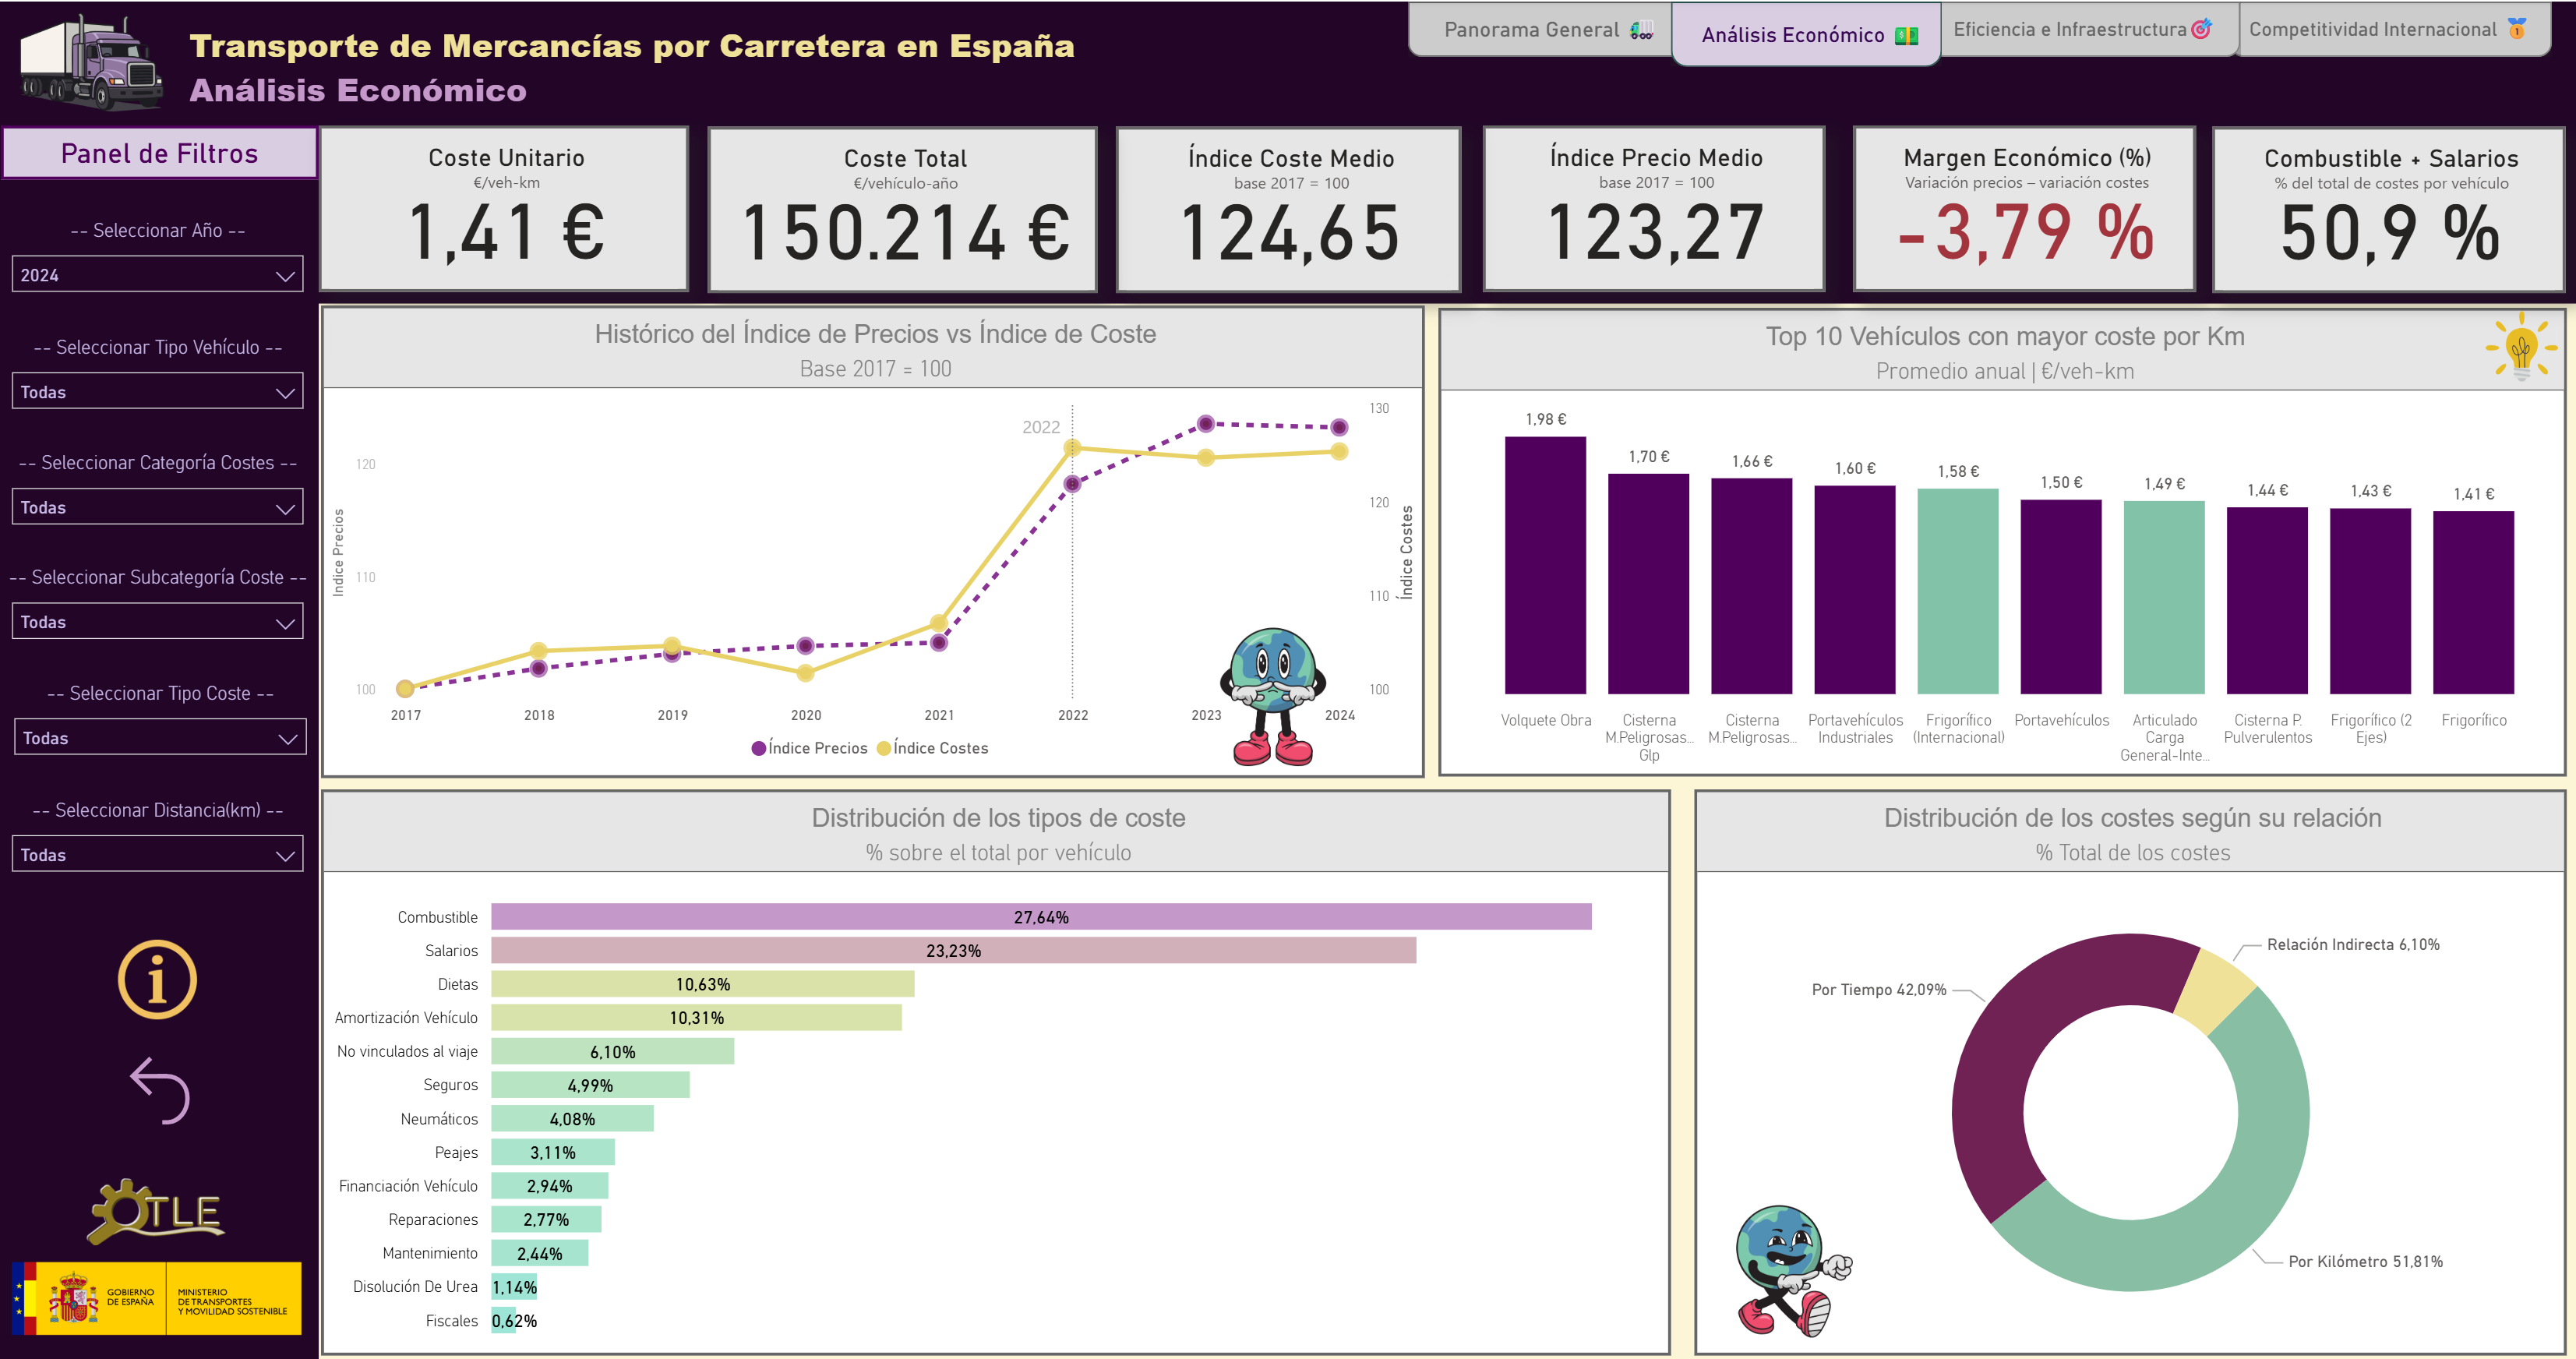

What the dashboard file says about the page in this screenshot:
{"tool":"powerbi","page":{"name":"Análisis Económico","canvas":[1747,920],"ordinal":2},"visuals":[{"type":"group","id":"g1","title":"Panel diseño","box":[0,0,1800,919.7],"z":0},{"type":"shape","box":[0,0,1800,204.6],"z":0,"group":"g1"},{"type":"shape","box":[0,81.2,218.5,838.5],"z":1000,"group":"g1"},{"type":"slicer","title":"-- Seleccionar Año --","fields":{"Values":["Año Dim.Año"]},"box":[0.9,146.8,217.6,63.9],"z":1000},{"type":"textbox","box":[125.8,8.7,637.8,70.4],"z":2000,"group":"g1"},{"type":"slicer","title":"-- Seleccionar Tipo Vehículo --","fields":{"Values":["Dim Vehiculo.Vehiculo"]},"box":[0.9,226.1,217.6,63],"z":2000},{"type":"slicer","title":"-- Seleccionar Subcategoría Coste --","fields":{"Values":["Dim Tipo Costes.Categoría (Según se miden)"]},"box":[1,382.3,217.6,63.3],"z":3000},{"type":"slicer","title":"-- Seleccionar Distancia(km) --","fields":{"Values":["C0497 Indice Precios.Distancia(Km)"]},"box":[1,539.7,217.6,64.2],"z":4000},{"type":"textbox","box":[3.2,83.9,215.2,36.4],"z":5000},{"type":"donutChart","title":"Distribución de los costes según su relación","fields":{"Y":["Medidas Económico.Total Costes"],"Series":["Dim Tipo Costes.Categoría (Según se miden)"]},"box":[1149.9,533,590.4,383.6],"z":6000},{"type":"slicer","title":"-- Seleccionar Categoría Costes --","fields":{"Values":["Dim Tipo Costes.Categoría (Según Relación)"]},"box":[1,304.6,217.6,62.3],"z":7000},{"type":"shape","box":[1512.6,0,218.2,37.5],"z":8000},{"type":"shape","box":[1309.3,0,209.8,37.5],"z":9000},{"type":"shape","box":[956.2,0,193.9,37.5],"z":10000},{"type":"image","box":[4,846.7,208.9,62.5],"z":11000},{"type":"image","box":[3.6,791.4,208.6,55.8],"z":12000},{"type":"actionButton","box":[81.5,705.2,59,63.7],"z":13000},{"type":"shape","box":[1133.9,0,183.6,44.3],"z":14000},{"type":"clusteredColumnChart","title":"Top 10 Vehículos con mayor coste por Km","fields":{"Category":["Dim Vehiculo.Vehiculo"],"Y":["Medidas Económico.Promedio Coste Vehiculo-km"]},"box":[976.8,206.9,764,317.5],"z":15000},{"type":"cardVisual","title":"Coste Unitario","fields":{"Data":["Medidas Económico.Promedio Coste Vehiculo-km"]},"box":[218.6,83.9,250.9,112.8],"z":16000},{"type":"cardVisual","title":"Índice Precio Medio","fields":{"Data":["Medidas Económico.Promedio Precio"]},"box":[1006.2,83.9,231.7,112.8],"z":17000},{"type":"cardVisual","title":"Índice Coste Medio","fields":{"Data":["Medidas Económico.Indice Coste Medio"]},"box":[758,84.8,234.3,112.8],"z":18000},{"type":"cardVisual","title":"Coste Total","fields":{"Data":["Medidas Económico.Promedio Coste Vehiculo"]},"box":[481.7,84.8,264,112.8],"z":19000},{"type":"cardVisual","title":"Margen Económico (%)","fields":{"Data":["Medidas Económico.Margen Económico (%)"]},"box":[1257.1,83.9,231.7,112.8],"z":20000},{"type":"cardVisual","title":"Combustible + Salarios","fields":{"Data":["Medidas Económico.Coste Combustible y Salarios (%)"]},"box":[1500.2,84.8,239.5,112.8],"z":21000},{"type":"slicer","title":"-- Seleccionar Tipo Coste --","fields":{"Values":["Dim Tipo Costes.Tipo Costes"]},"box":[2.7,460.1,217.8,62.9],"z":22000},{"type":"lineChart","title":"Histórico del Índice de Precios vs Índice de Coste","fields":{"Y":["Avg(KPI Costes vs Precios.Indice Precios)"],"Y2":["Avg(KPI Costes vs Precios.Indice Costes)"],"Category":["Dim Año.Año"]},"box":[219.6,205.9,747.2,319.8],"z":23000},{"type":"clusteredBarChart","title":"Distribución de los tipos de coste","fields":{"Category":["Dim Tipo Costes.Tipo Costes"],"Y":["Divide(Medidas Económico.Total Costes, ScopedEval(Medidas Económico.Total Costes, []))"]},"box":[219.6,533,913.9,383.6],"z":24000},{"type":"image","box":[4,0,121.9,81.5],"z":25000},{"type":"image","box":[76.8,629.4,64.6,66.5],"z":26000},{"type":"image","box":[1165.4,807.3,103.9,102.1],"z":27000},{"type":"image","box":[809.1,416.4,109.3,106.6],"z":28000},{"type":"image","box":[1679.7,201.9,60.7,63.6],"z":33000}]}

Visuals, with their boxes in screenshot pixels (x1, y1, x2, y2), scaled from the page's 1747x920 canvas onto the 2576x1359 screenshot:
"Panel diseño" group: x1=0, y1=0, x2=2575, y2=1358
shape: x1=0, y1=0, x2=2575, y2=302
shape: x1=0, y1=120, x2=322, y2=1358
"-- Seleccionar Año --" slicer: x1=2, y1=217, x2=322, y2=311
textbox: x1=185, y1=12, x2=1126, y2=117
"-- Seleccionar Tipo Vehículo --" slicer: x1=2, y1=334, x2=322, y2=427
"-- Seleccionar Subcategoría Coste --" slicer: x1=2, y1=565, x2=323, y2=658
"-- Seleccionar Distancia(km) --" slicer: x1=2, y1=797, x2=323, y2=892
textbox: x1=5, y1=124, x2=322, y2=178
"Distribución de los costes según su relación" donutChart: x1=1696, y1=787, x2=2566, y2=1354
"-- Seleccionar Categoría Costes --" slicer: x1=2, y1=450, x2=323, y2=542
shape: x1=2230, y1=0, x2=2552, y2=55
shape: x1=1931, y1=0, x2=2240, y2=55
shape: x1=1410, y1=0, x2=1696, y2=55
image: x1=6, y1=1251, x2=314, y2=1343
image: x1=5, y1=1169, x2=313, y2=1251
actionButton: x1=120, y1=1042, x2=207, y2=1136
shape: x1=1672, y1=0, x2=1943, y2=65
"Top 10 Vehículos con mayor coste por Km" clusteredColumnChart: x1=1440, y1=305, x2=2567, y2=775
"Coste Unitario" cardVisual: x1=323, y1=124, x2=692, y2=291
"Índice Precio Medio" cardVisual: x1=1484, y1=124, x2=1826, y2=291
"Índice Coste Medio" cardVisual: x1=1117, y1=125, x2=1463, y2=292
"Coste Total" cardVisual: x1=711, y1=125, x2=1099, y2=292
"Margen Económico (%)" cardVisual: x1=1854, y1=124, x2=2195, y2=291
"Combustible + Salarios" cardVisual: x1=2212, y1=125, x2=2565, y2=292
"-- Seleccionar Tipo Coste --" slicer: x1=4, y1=679, x2=325, y2=772
"Histórico del Índice de Precios vs Índice de Coste" lineChart: x1=324, y1=304, x2=1426, y2=777
"Distribución de los tipos de coste" clusteredBarChart: x1=324, y1=787, x2=1671, y2=1354
image: x1=6, y1=0, x2=185, y2=120
image: x1=113, y1=930, x2=209, y2=1028
image: x1=1718, y1=1192, x2=1872, y2=1343
image: x1=1193, y1=615, x2=1354, y2=772
image: x1=2477, y1=298, x2=2567, y2=392
